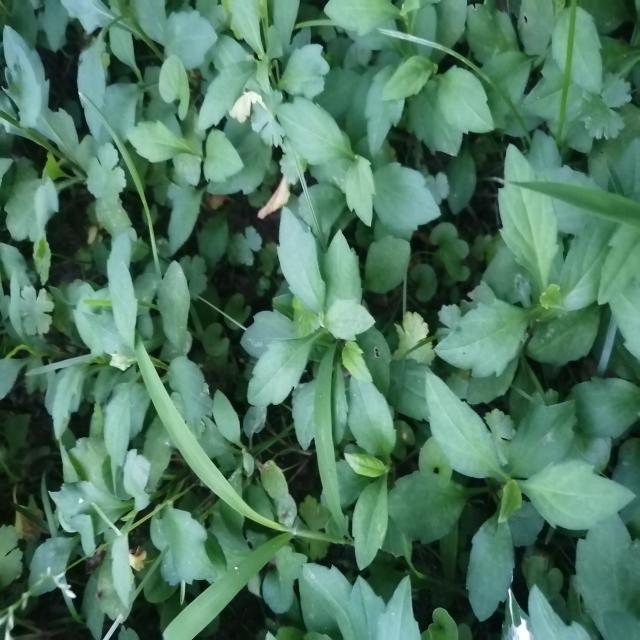Indian aster: (413, 361, 598, 599), (237, 182, 394, 446)
